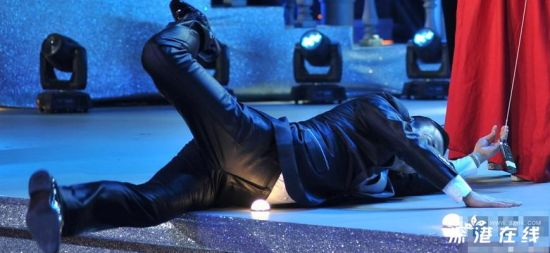down: (15, 3, 523, 250)
